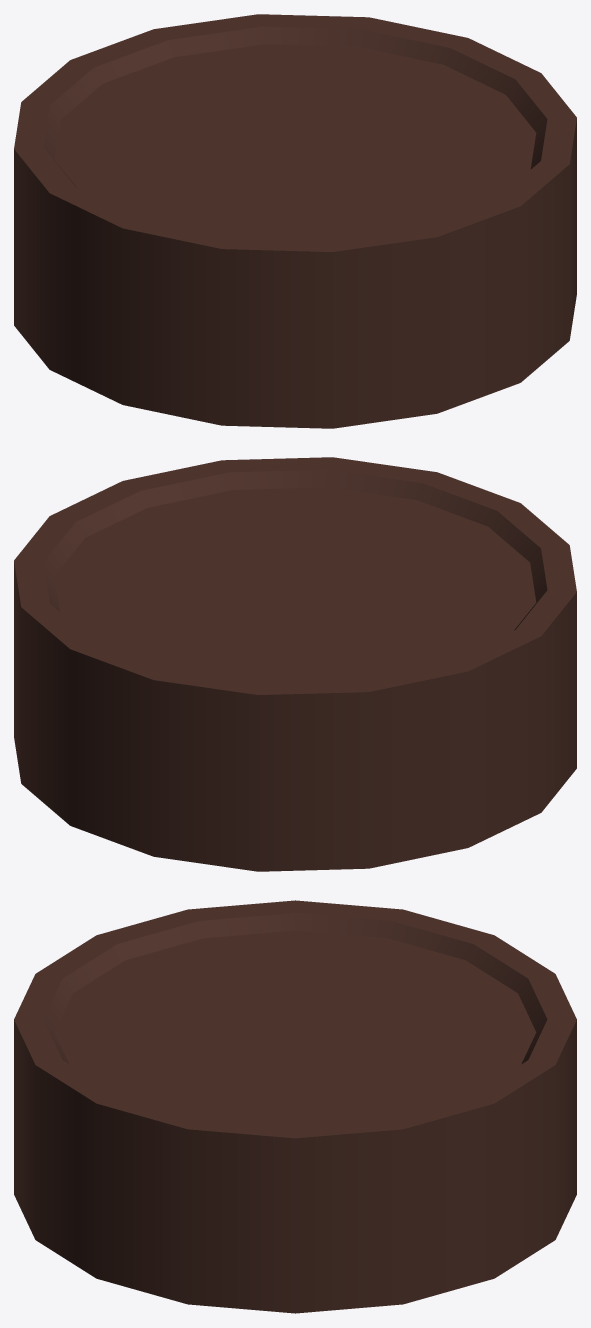
The model's file is roundmanhole002.fbx.
The picture shows the model from 3 angles, top to bottom: view 1: azimuth 30°, elevation 25°; view 2: azimuth 150°, elevation 25°; view 3: azimuth 270°, elevation 25°; orthographic projection.
Visible parts, largest first — view 1: manhole; view 2: manhole; view 3: manhole.
Boxes of the visible parts, box(x1,y1,x2,y2) form: manhole: box(14, 14, 576, 428); manhole: box(14, 457, 576, 871); manhole: box(14, 900, 576, 1313).
Bounding box in the file's own units: 20 × 6.87 × 20.
